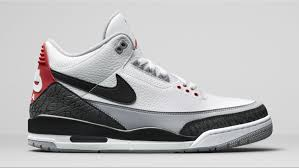nike: (43, 53, 162, 121)
